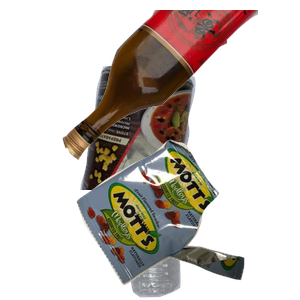glass: (60, 10, 300, 163)
metal: (78, 63, 266, 243)
plastic: (115, 176, 288, 300)
trash: (74, 137, 300, 300)
